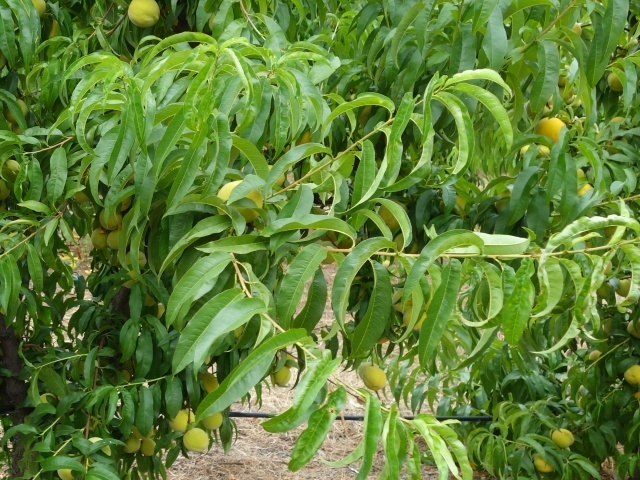peach: (215, 175, 263, 223), (535, 114, 572, 151), (122, 1, 163, 31), (190, 369, 226, 402), (180, 424, 212, 459), (378, 195, 409, 231), (1, 93, 31, 128), (165, 408, 196, 437), (548, 423, 578, 452), (401, 306, 431, 335), (199, 404, 228, 432), (363, 364, 391, 392), (95, 206, 124, 231), (530, 449, 556, 476), (601, 69, 628, 95), (270, 364, 295, 391), (86, 225, 111, 251), (121, 436, 143, 460), (622, 359, 639, 390), (140, 433, 161, 457), (107, 232, 128, 251)
